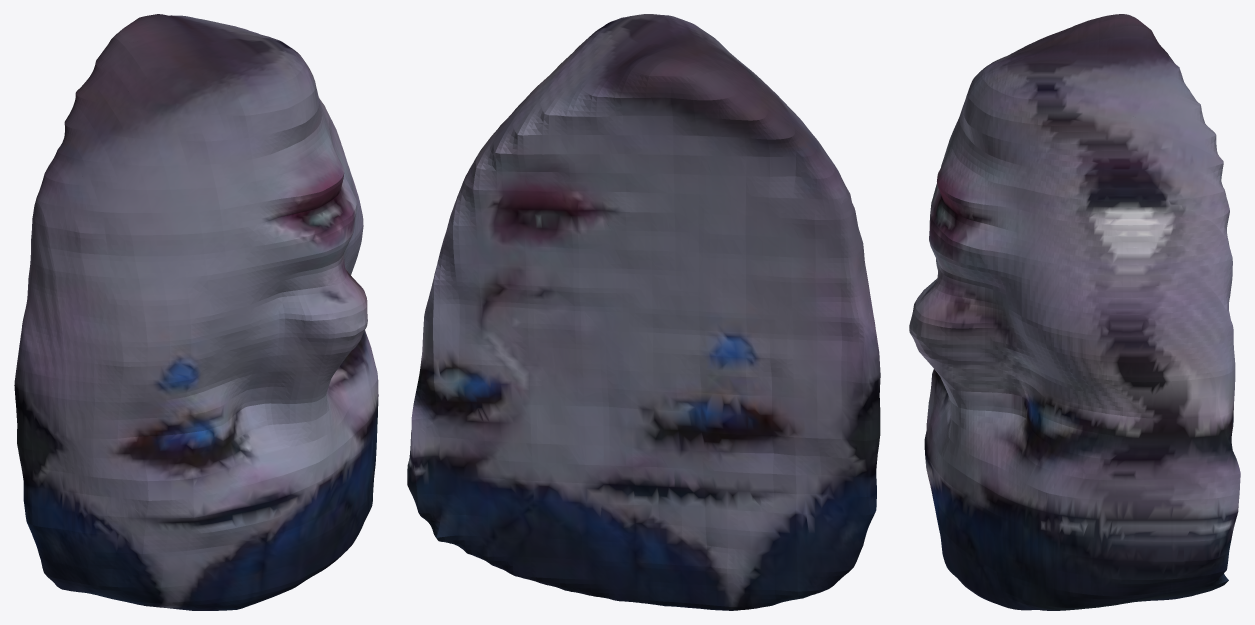
Rendered from anime.obj.
3 views of the same model, side by side, from view 1: azimuth 30°, elevation 25°; view 2: azimuth 150°, elevation 25°; view 3: azimuth 270°, elevation 25° (orthographic). The views are drawn at different scales.
Visible parts, largest first — view 1: foo; view 2: foo; view 3: foo.
Boxes of the visible parts, x1,y1,x2,y2 form: foo: (14,14,378,610); foo: (407,14,880,610); foo: (909,14,1240,610).
Size of the model in its own units: 83.72 by 112 by 62.4.
